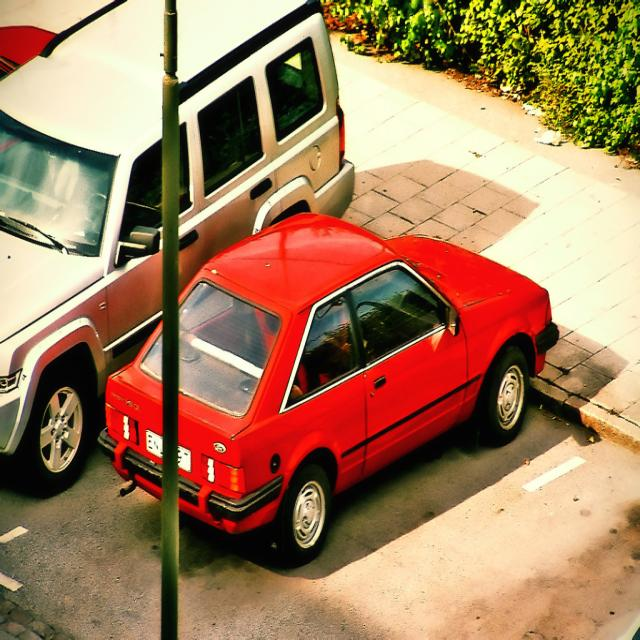car: (77, 234, 552, 563)
